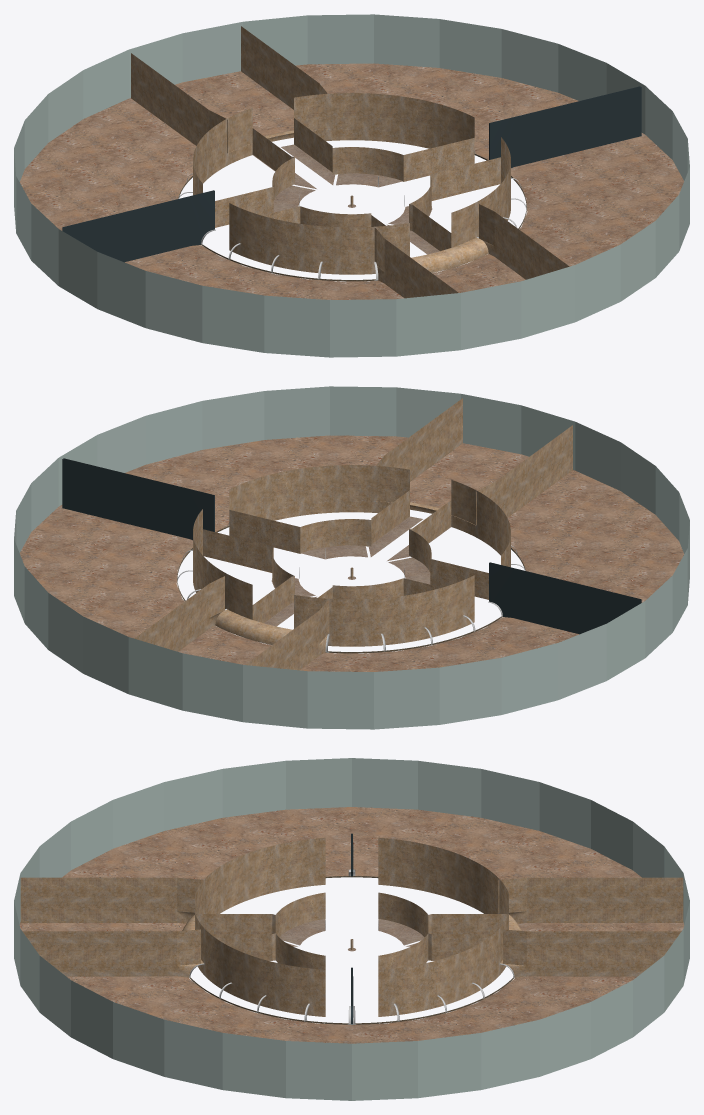
Rendered from fish_env_1_6_remaining_items.glb.
3 renders of one model, top to bottom at view 1: azimuth 30°, elevation 25°; view 2: azimuth 150°, elevation 25°; view 3: azimuth 270°, elevation 25°, orthographic.
Visible parts, largest first — view 1: boundary.005, big pond floor.003, storage.011, big tank walks.005, big_tank_divider.007, tilapia_tank floor.005, crocodile_tank floor.003, short lip outer.003; view 2: boundary.005, big pond floor.003, storage.011, big tank walks.005, big_tank_divider.007, tilapia_tank floor.005, crocodile_tank floor.003, short lip outer.003; view 3: boundary.005, big pond floor.003, storage.011, big tank walks.005, tilapia_tank floor.005, short lip outer.003, the big fish tank.014.
Part boxes in pixels (<box>): boundary.005: <box>14,14,689,357</box>; big pond floor.003: <box>19,63,684,299</box>; storage.011: <box>193,93,510,274</box>; big tank walks.005: <box>131,26,569,298</box>; big_tank_divider.007: <box>62,86,641,262</box>; tilapia_tank floor.005: <box>273,173,432,224</box>; crocodile_tank floor.003: <box>252,144,439,257</box>; short lip outer.003: <box>178,154,526,281</box>; boundary.005: <box>14,386,689,729</box>; big pond floor.003: <box>19,435,684,671</box>; storage.011: <box>193,465,510,646</box>; big tank walks.005: <box>134,398,572,670</box>; big_tank_divider.007: <box>62,458,641,634</box>; tilapia_tank floor.005: <box>271,545,430,596</box>; crocodile_tank floor.003: <box>264,516,451,629</box>; short lip outer.003: <box>177,526,525,653</box>; boundary.005: <box>14,758,689,1100</box>; big pond floor.003: <box>19,807,684,1043</box>; storage.011: <box>195,837,508,1016</box>; big tank walks.005: <box>20,877,683,977</box>; tilapia_tank floor.005: <box>279,919,424,945</box>; short lip outer.003: <box>189,876,514,1024</box>; the big fish tank.014: <box>189,869,514,1023</box>.
Bounding box in the file's own units: 128 × 11.98 × 128.
7 materials, 4 textured.
